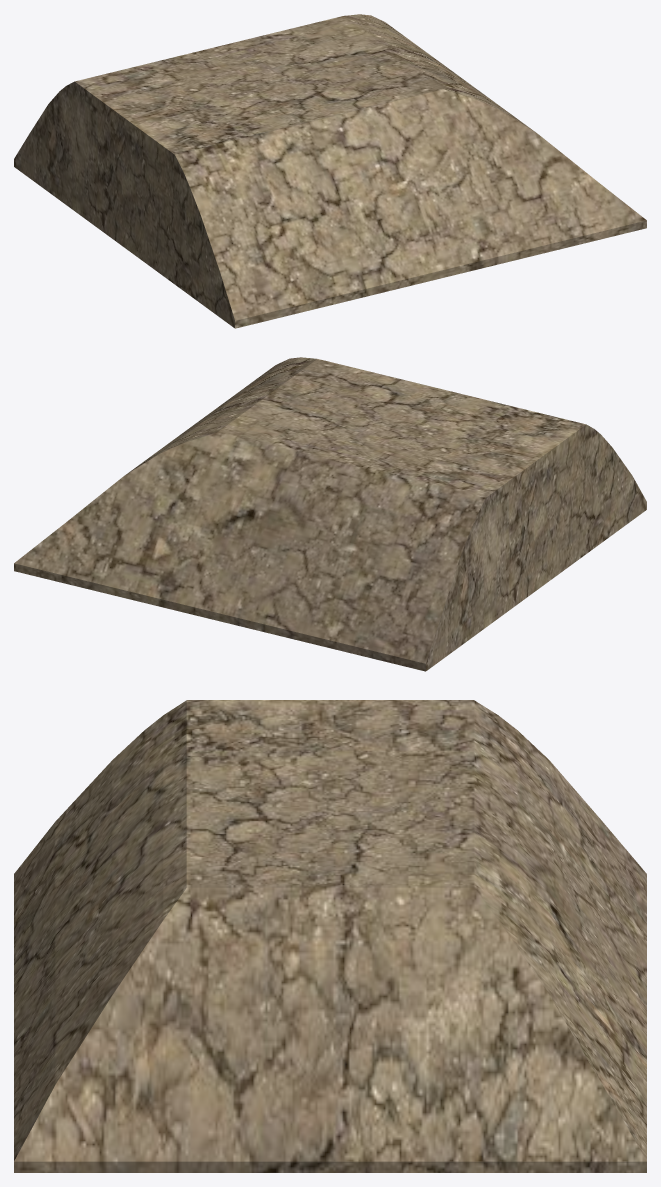
3 renders of one model, top to bottom at view 1: azimuth 30°, elevation 25°; view 2: azimuth 150°, elevation 25°; view 3: azimuth 270°, elevation 25°, orthographic. The views are drawn at different scales.
Visible parts, largest first — view 1: Box001; view 2: Box001; view 3: Box001.
Boxes of the visible parts, x1=… form: Box001: x1=14, y1=14, x2=646, y2=328; Box001: x1=14, y1=357, x2=646, y2=671; Box001: x1=14, y1=700, x2=646, y2=1172.
Bounding box in the file's own units: 129 × 38.76 × 120.
Materials: 1 (1 with a texture image).
